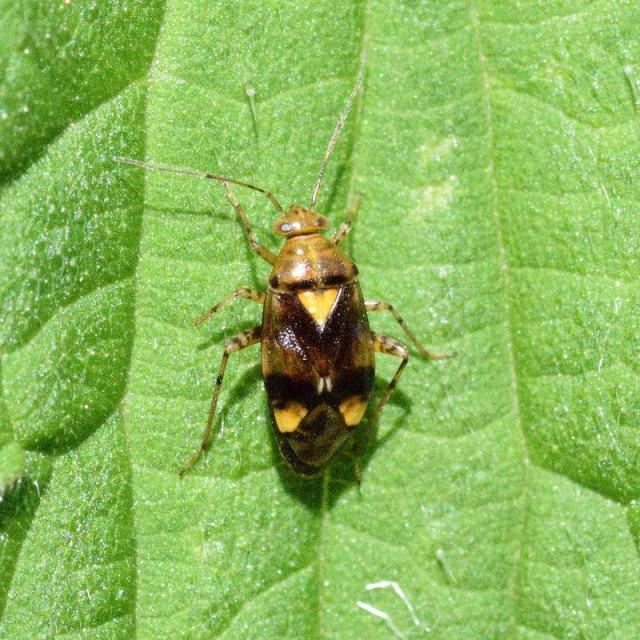Miridae-Adult-: (71, 71, 445, 476)
